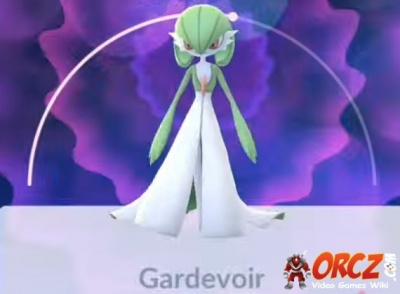gardevoir: (108, 5, 283, 249)
